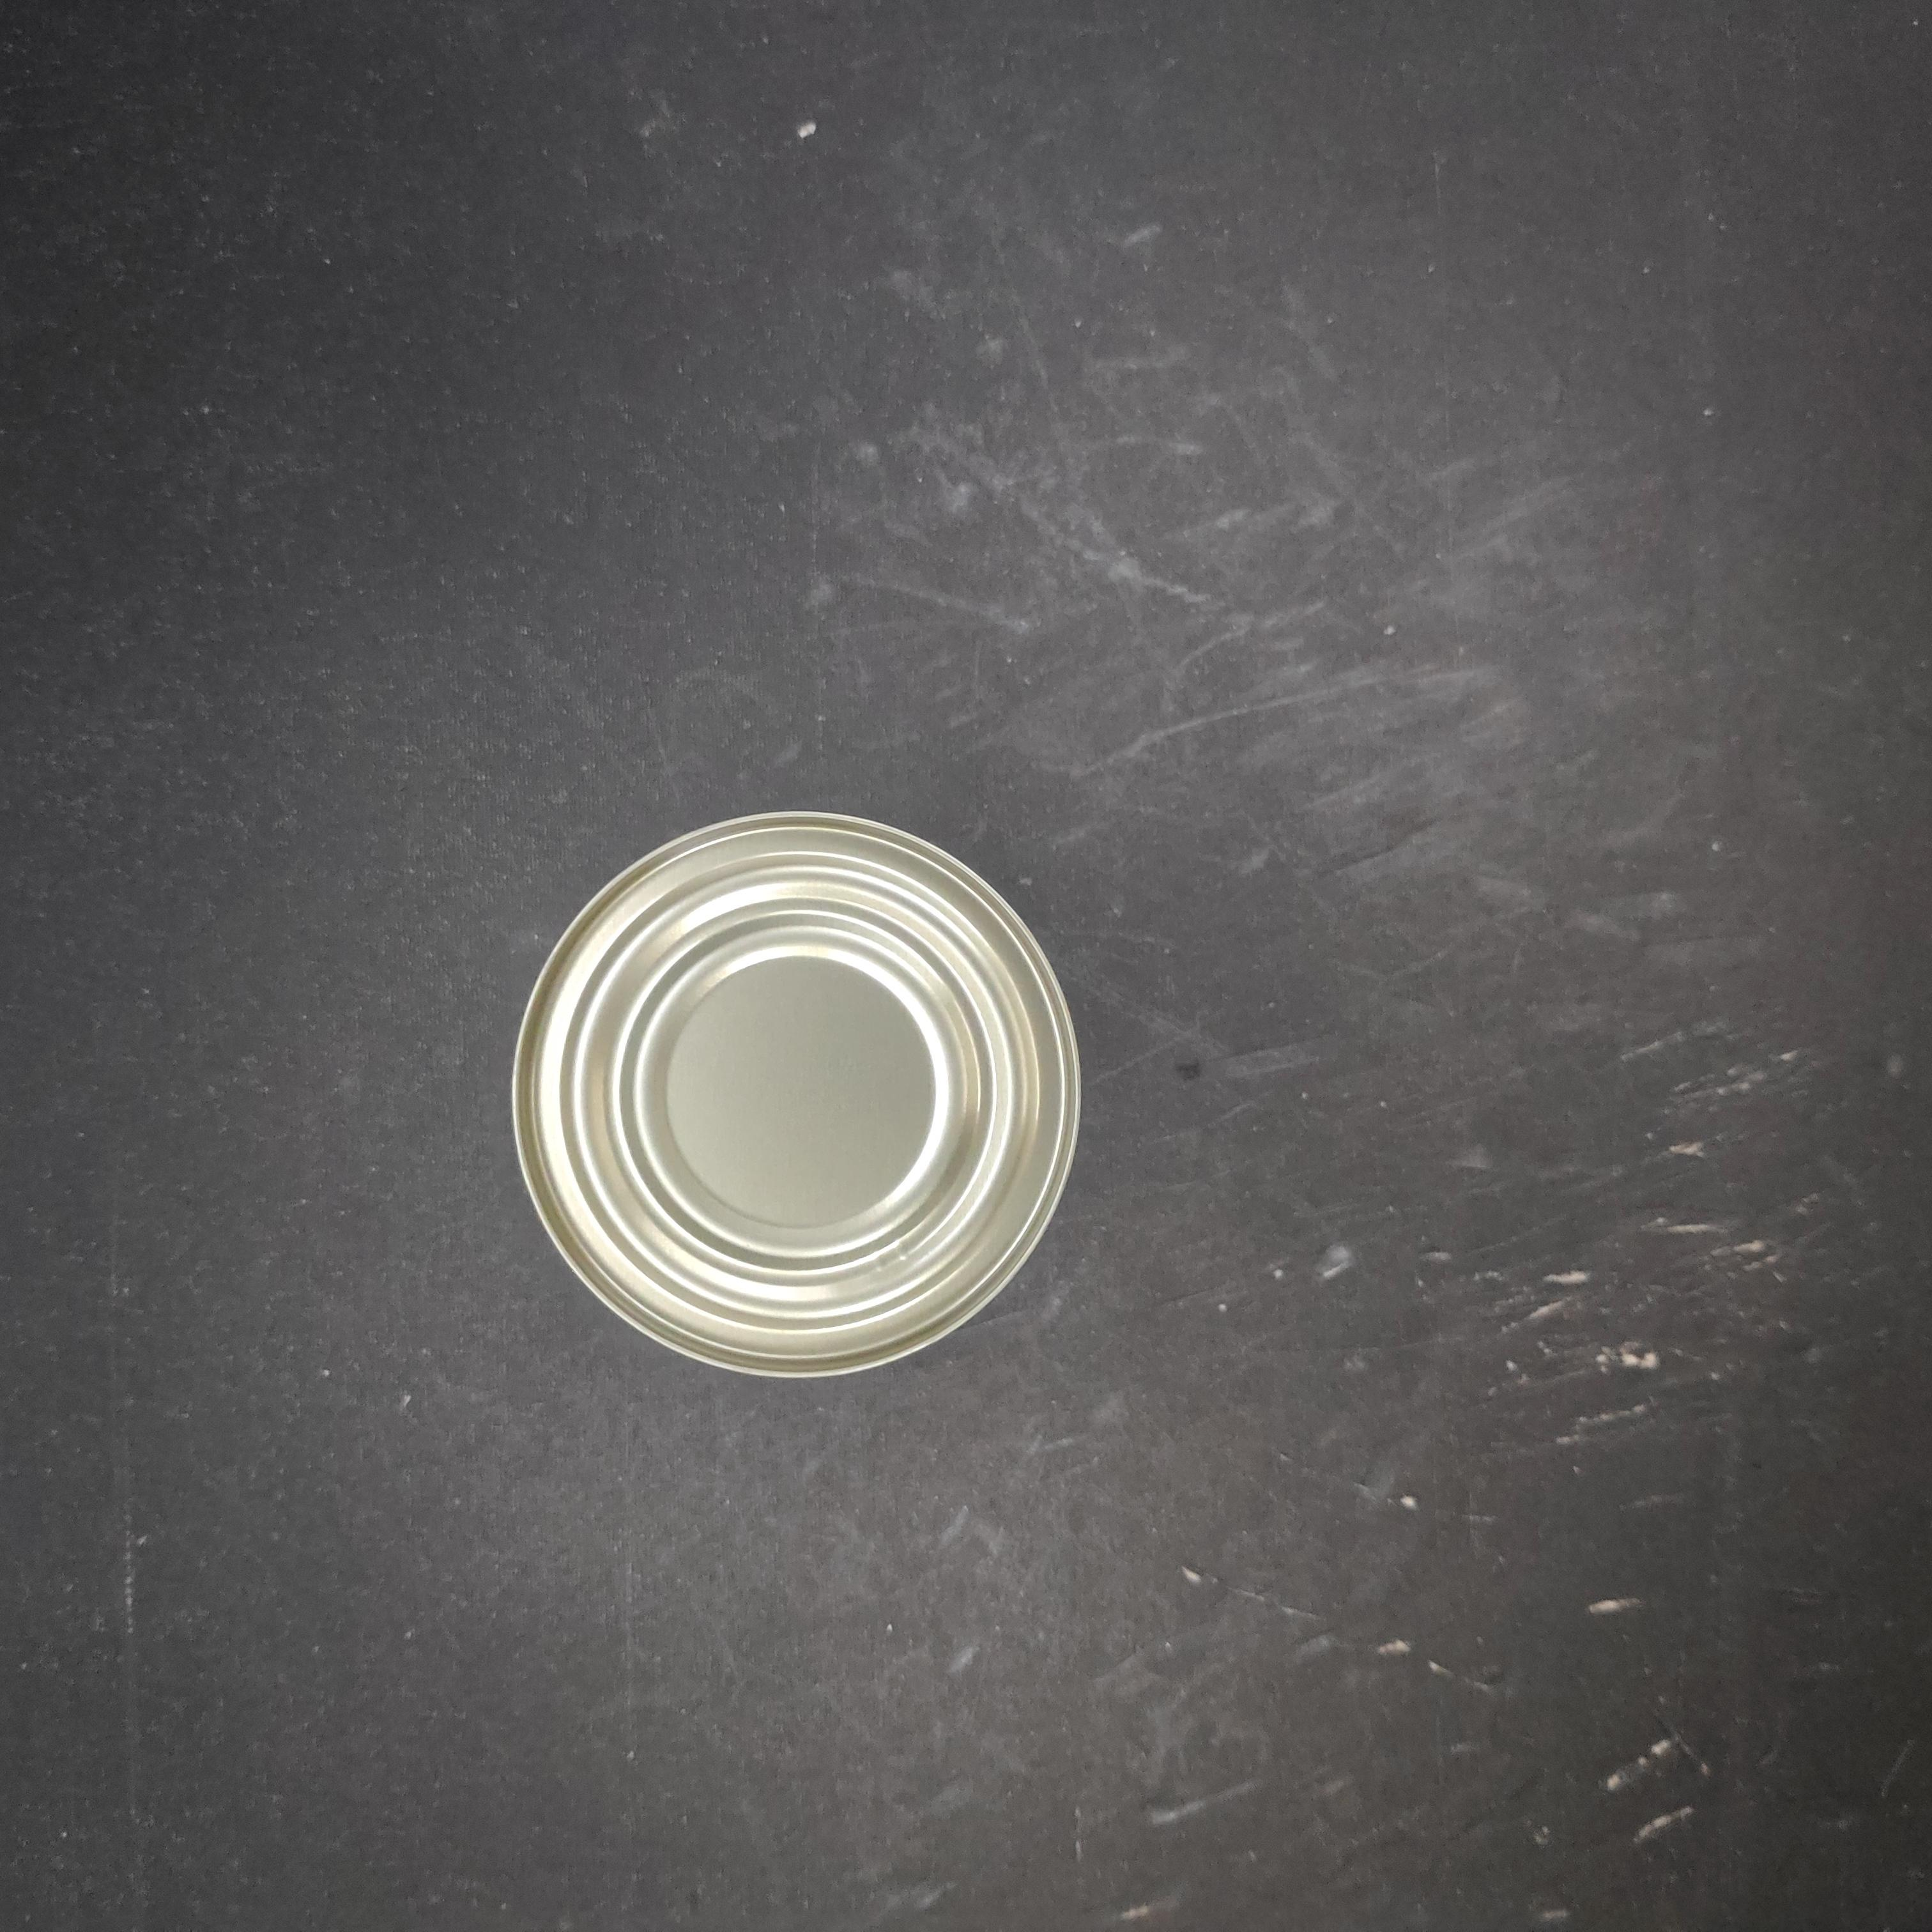No defect: (553, 509, 1124, 1084)
